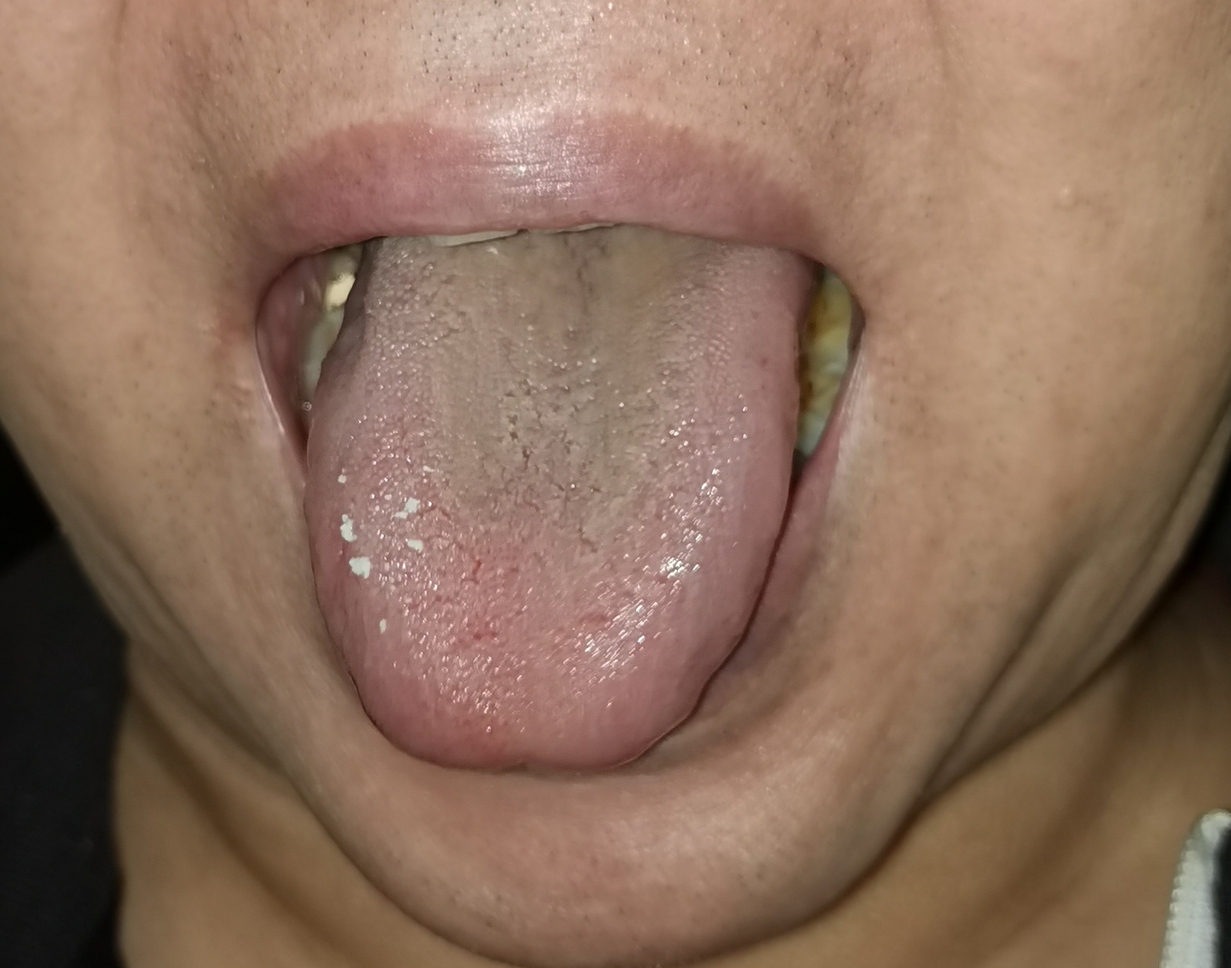huangtaishe: (307, 224, 816, 771)
liewenshe: (492, 334, 604, 552)
